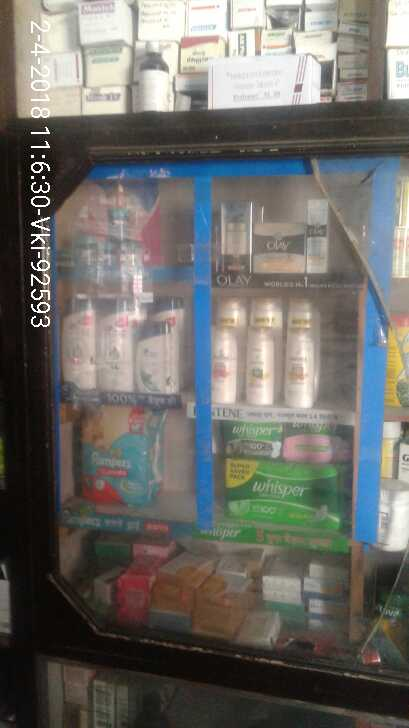vicks: (66, 207, 146, 270)
